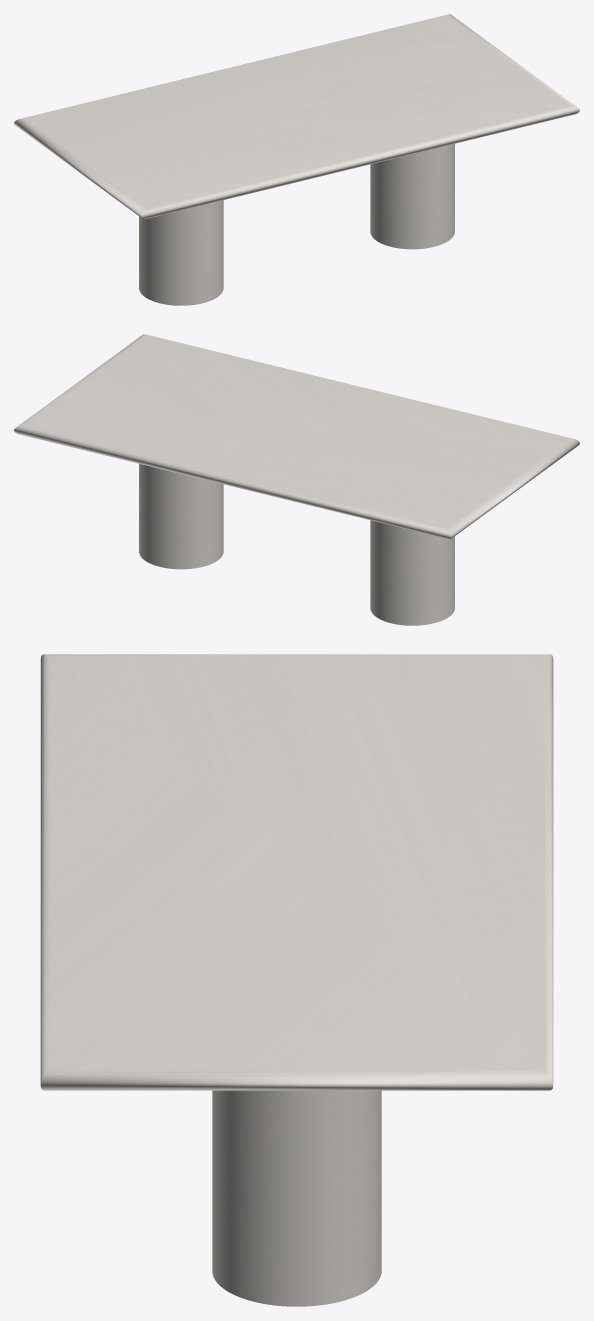
Rendered from pearlwhite_recta_round_stream.glb.
3 views of the same model, one above another, from view 1: azimuth 30°, elevation 25°; view 2: azimuth 150°, elevation 25°; view 3: azimuth 270°, elevation 25° (orthographic). The views are drawn at different scales.
Visible parts, largest first — view 1: round_recta, stream; view 2: round_recta, stream; view 3: round_recta, stream.
Part boxes in pixels (x1,y1,x2,y2): round_recta: (14, 14, 579, 219); stream: (139, 144, 454, 305); round_recta: (14, 334, 579, 539); stream: (139, 464, 454, 625); round_recta: (40, 654, 553, 1090); stream: (212, 1090, 381, 1306).
Bounding box in the file's own units: 7.76 × 2.5 × 3.93.
1 material, 1 textured.
